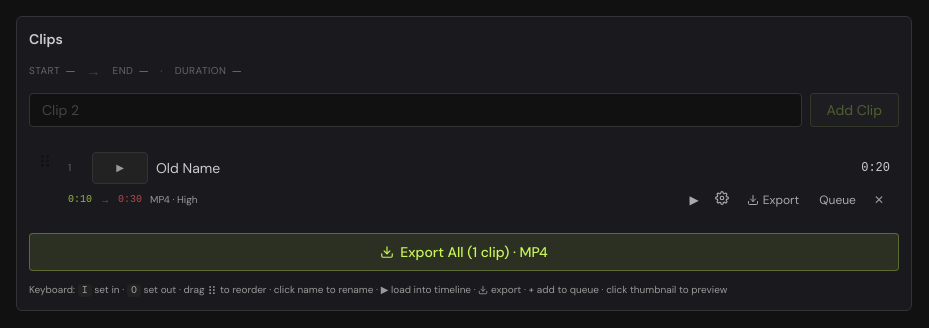
Test: ClipList — inline rename › shows a rename input when the clip name is clicked
Click the button titled "Click to rename".
click(188, 168)  # box [156,158,853,178]
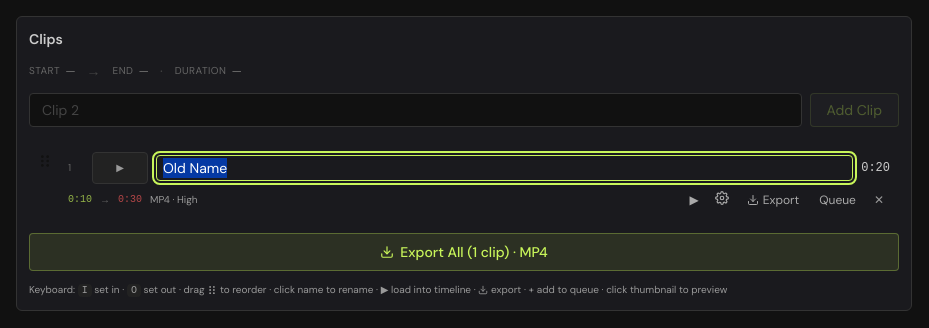
Expected: the field showing "Old Name" is shown, [156,155,853,181]
